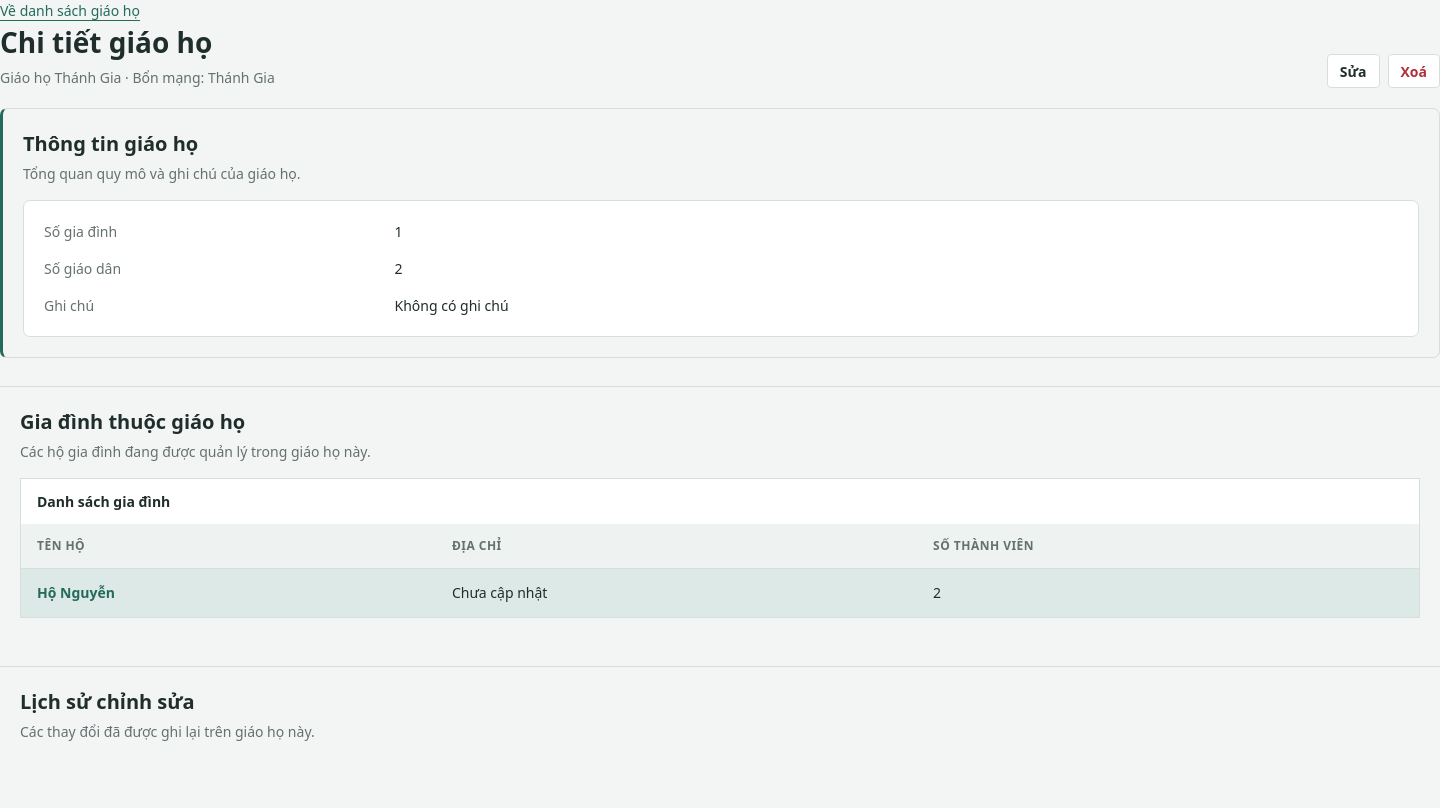
Test case: Giáo họ › hiển thị tác động trước khi xoá giáo họ
The image size is (1440, 808).
Expected: the link "Hộ Nguyễn" is shown, x1=37 y1=583 x2=115 y2=602
Step 1. Click the button "Xoá" → (1414, 71), box x1=1388 y1=54 x2=1439 y2=88
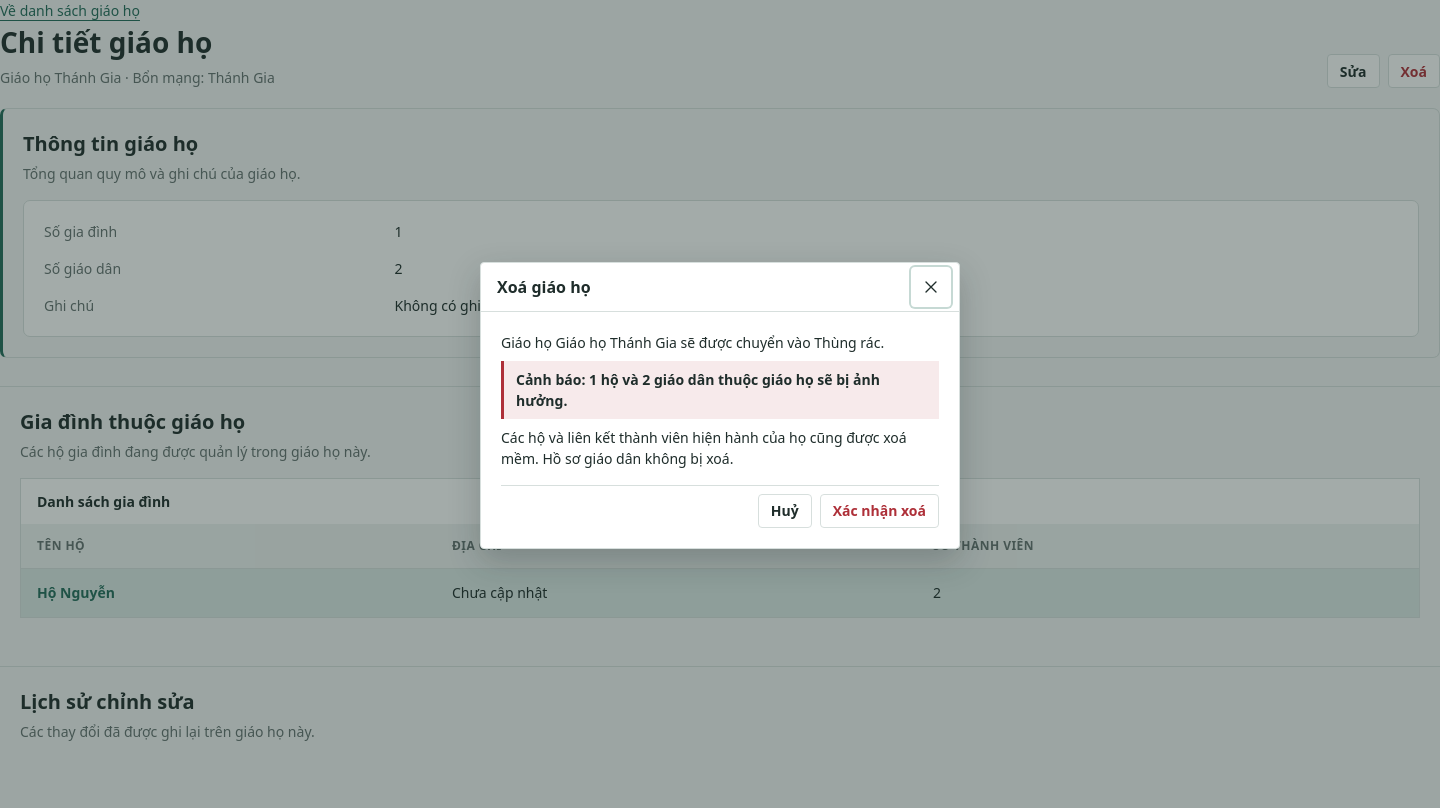
Expected: the text "Cảnh báo: 1 hộ và 2 giáo dân thuộc giáo họ sẽ bị ảnh hưởng." is shown, x1=501 y1=360 x2=939 y2=418
